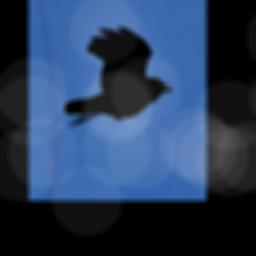Crow: (64, 26, 173, 129)
